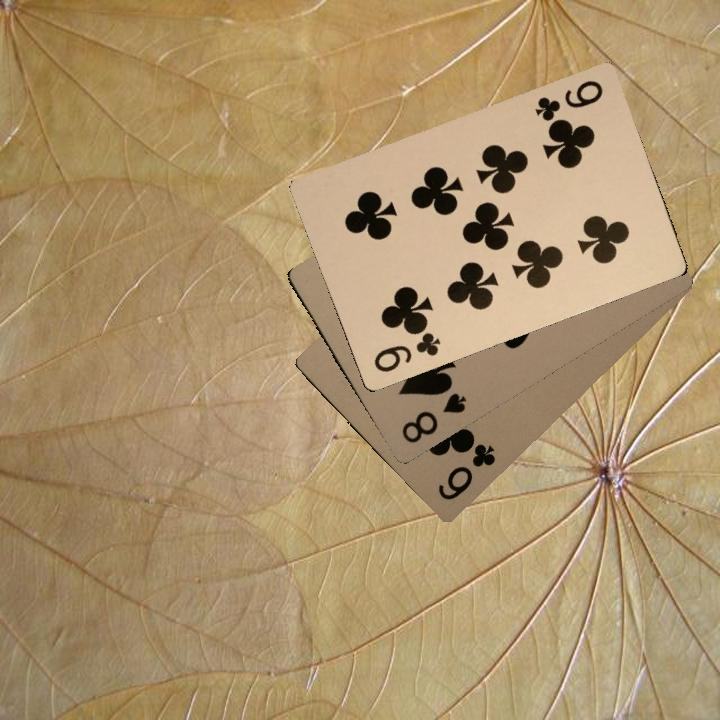6c: (433, 439, 499, 503)
8s: (397, 388, 469, 446)
9c: (369, 325, 444, 375), (531, 76, 606, 124)
